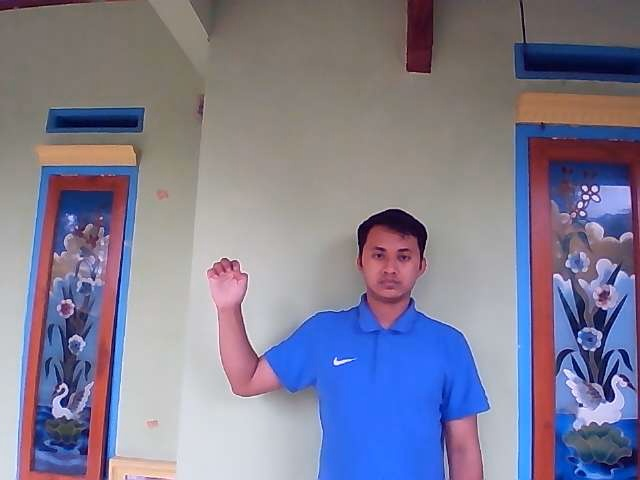E: (205, 257, 250, 308)
